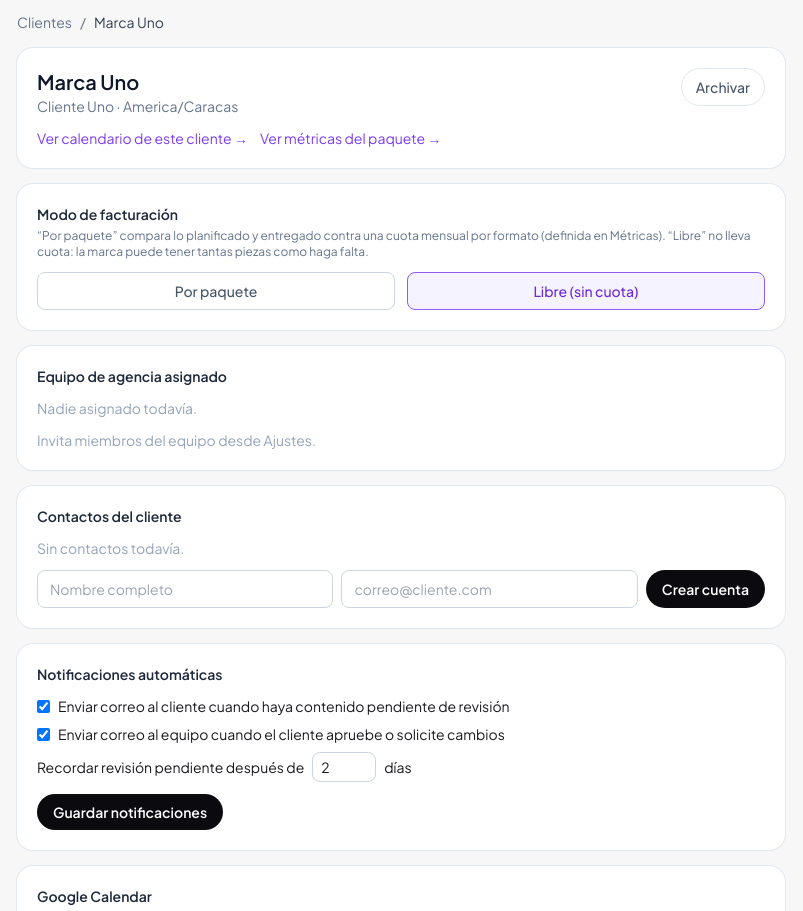
ClientDetail — panel de la clave generada al crear un contacto › el panel solo se va cuando la persona lo cierra, no por su cuenta
In the field with placeholder "Nombre completo": x=185, y=589 37,570 -> 333,608, type "Carla Cliente"
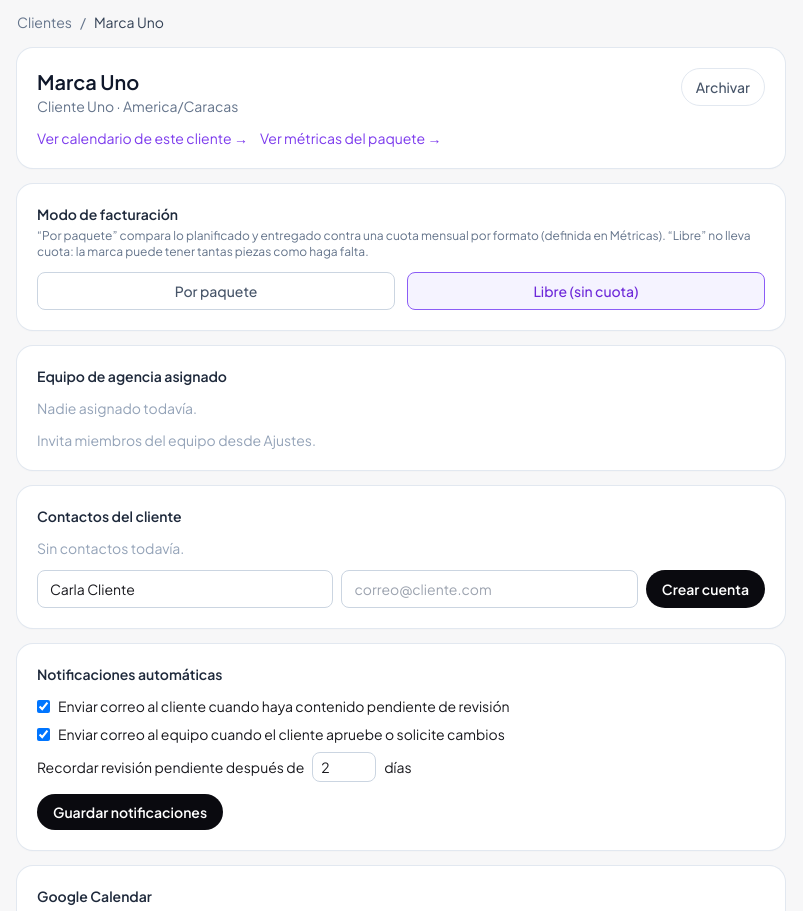
In the field with placeholder "correo@cliente.com": x=490, y=589 341,570 -> 638,608, type "contacto@cliente.test"
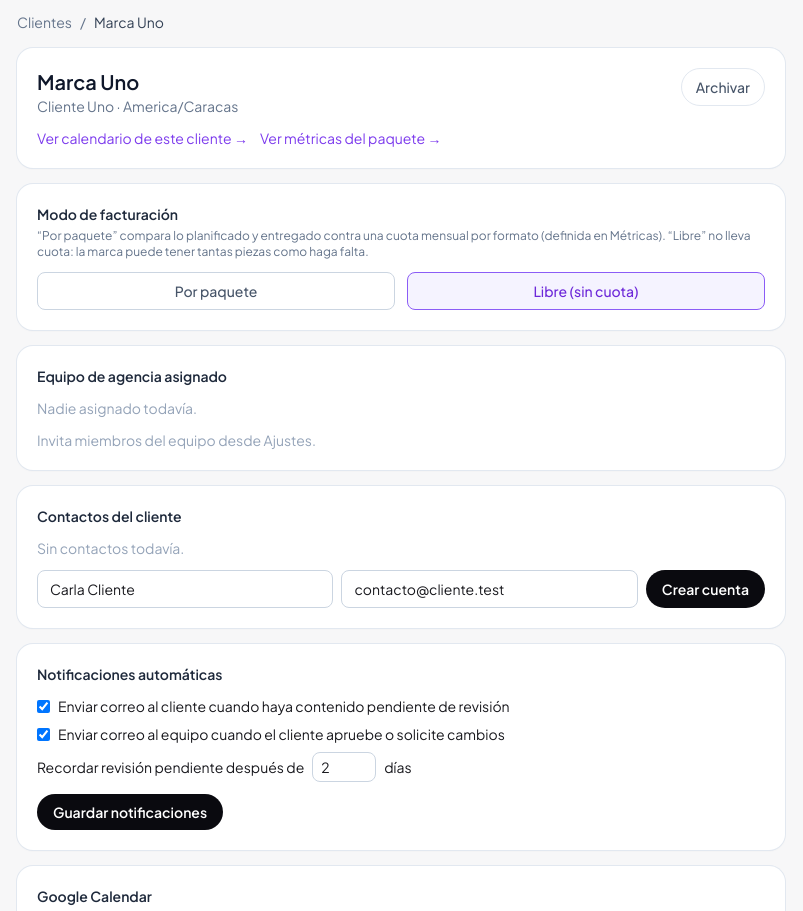
Click the button "Crear cuenta": x=705, y=589 646,570 -> 765,608
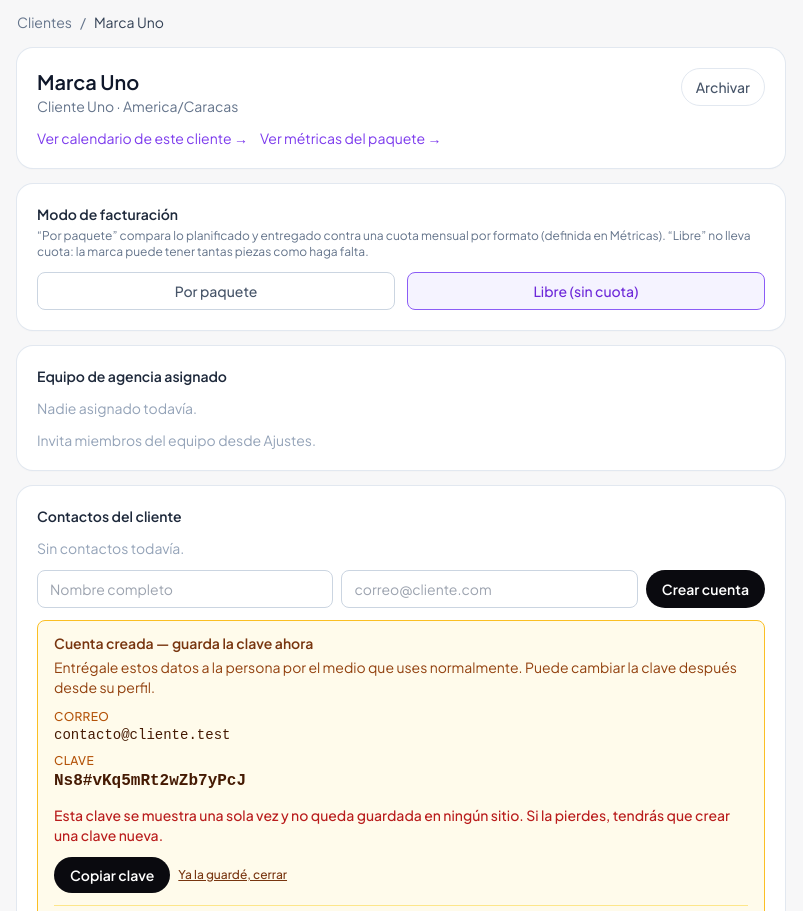
Now the text "Ns8#vKq5mRt2wZb7yPcJ" is shown, box 54,772 -> 246,790
Click the button "Ya la guardé, cerrar": x=233, y=875 178,867 -> 287,883
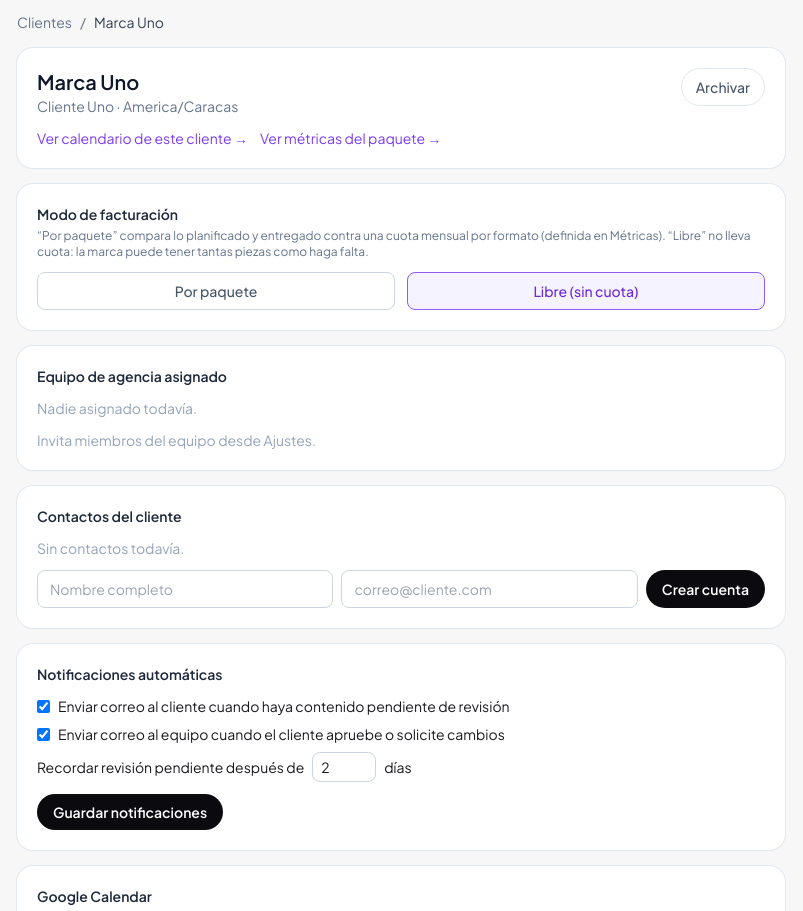
Now the text "Ns8#vKq5mRt2wZb7yPcJ" is gone
